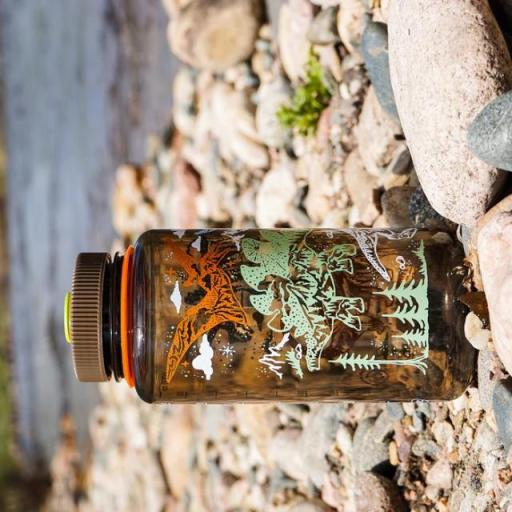bottle: (64, 224, 479, 404)
